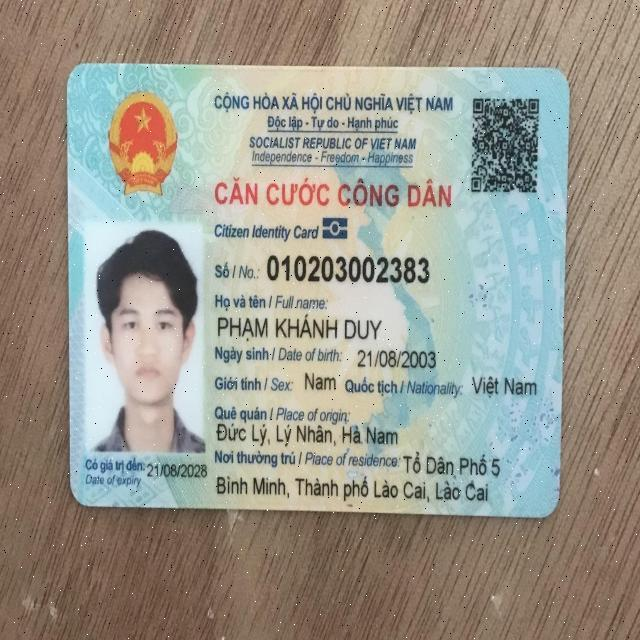current_place: (216, 470, 488, 504), (401, 452, 503, 478)
dob: (355, 346, 437, 370)
expire_date: (147, 457, 207, 484)
gender: (302, 368, 339, 391)
id: (263, 249, 429, 285)
name: (218, 310, 382, 345)
nationality: (471, 371, 538, 401)
origin_place: (215, 420, 399, 450)
